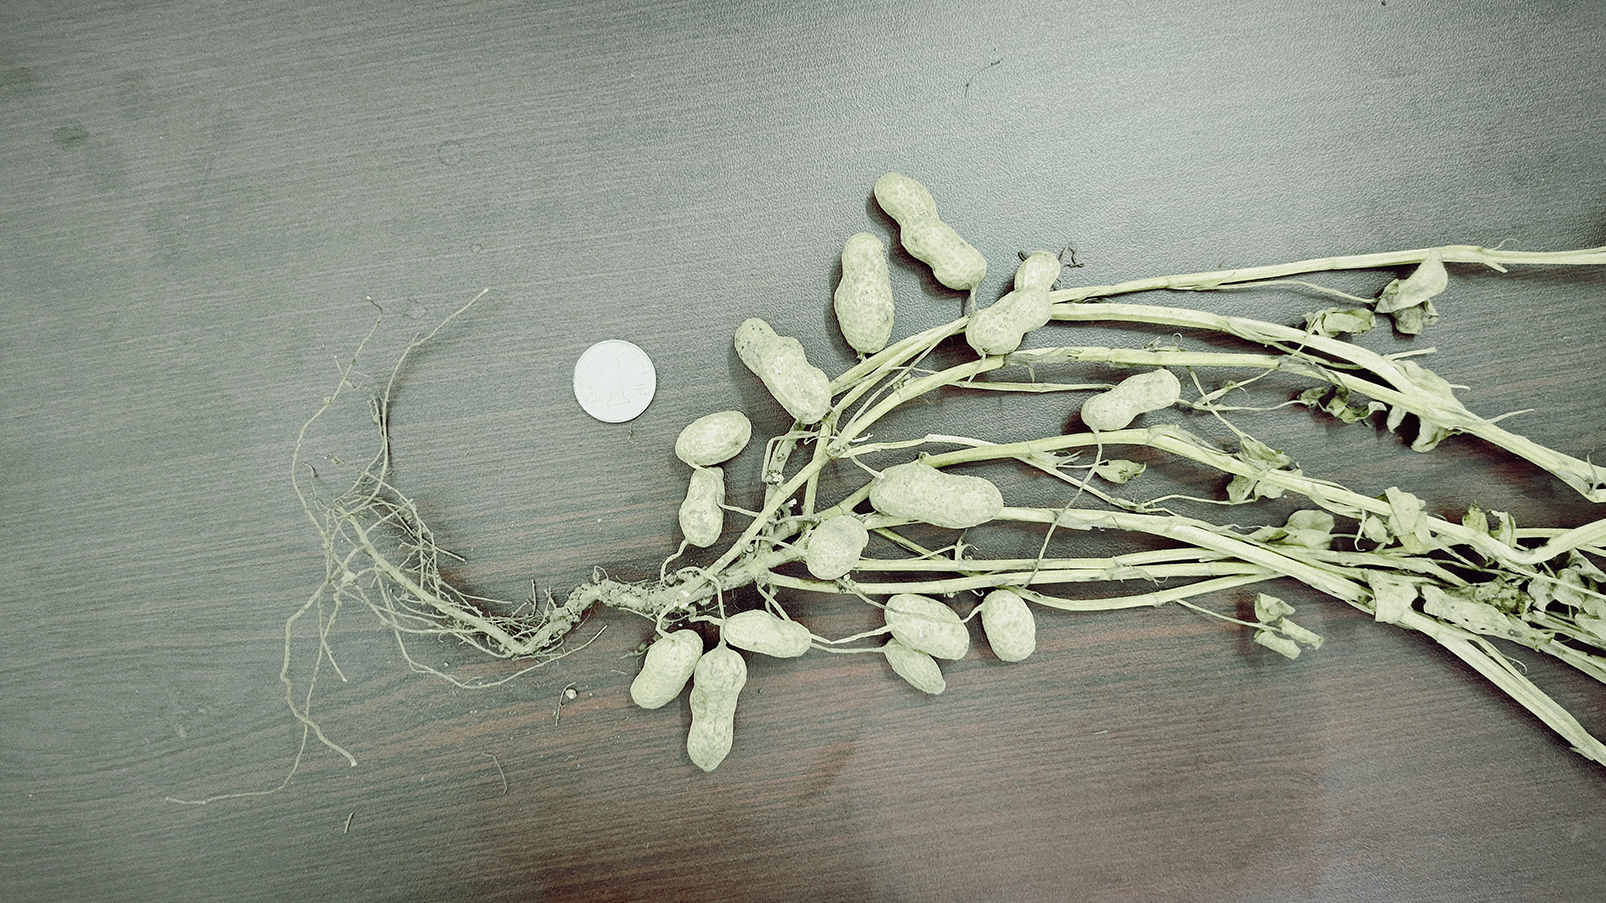h: (872, 172, 987, 292), (734, 315, 832, 422), (965, 248, 1061, 357), (867, 461, 1003, 528), (685, 644, 746, 773), (833, 232, 896, 353), (1079, 368, 1180, 432), (884, 591, 970, 662), (630, 630, 702, 710), (674, 408, 753, 466), (722, 610, 813, 658), (805, 514, 869, 582), (676, 467, 725, 546), (979, 590, 1034, 659), (882, 643, 947, 696)
